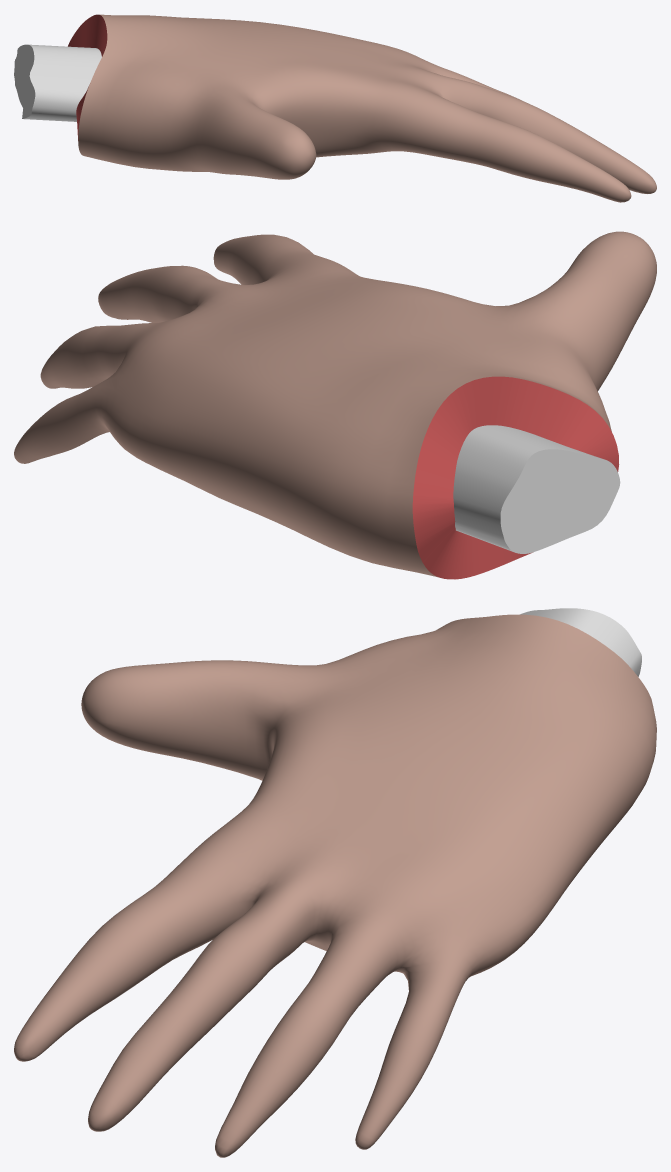
3 renders of one model, top to bottom at view 1: azimuth 30°, elevation 25°; view 2: azimuth 150°, elevation 25°; view 3: azimuth 270°, elevation 25°, orthographic. The views are drawn at different scales.
Visible parts, largest first — view 1: polySurface36; view 2: polySurface36; view 3: polySurface36.
Boxes of the visible parts, box(x1,y1,x2,y2) form: polySurface36: box(14, 14, 656, 202); polySurface36: box(14, 231, 656, 579); polySurface36: box(14, 608, 656, 1157).
Size of the model in its own units: 7.35 by 2.7 by 5.75.
